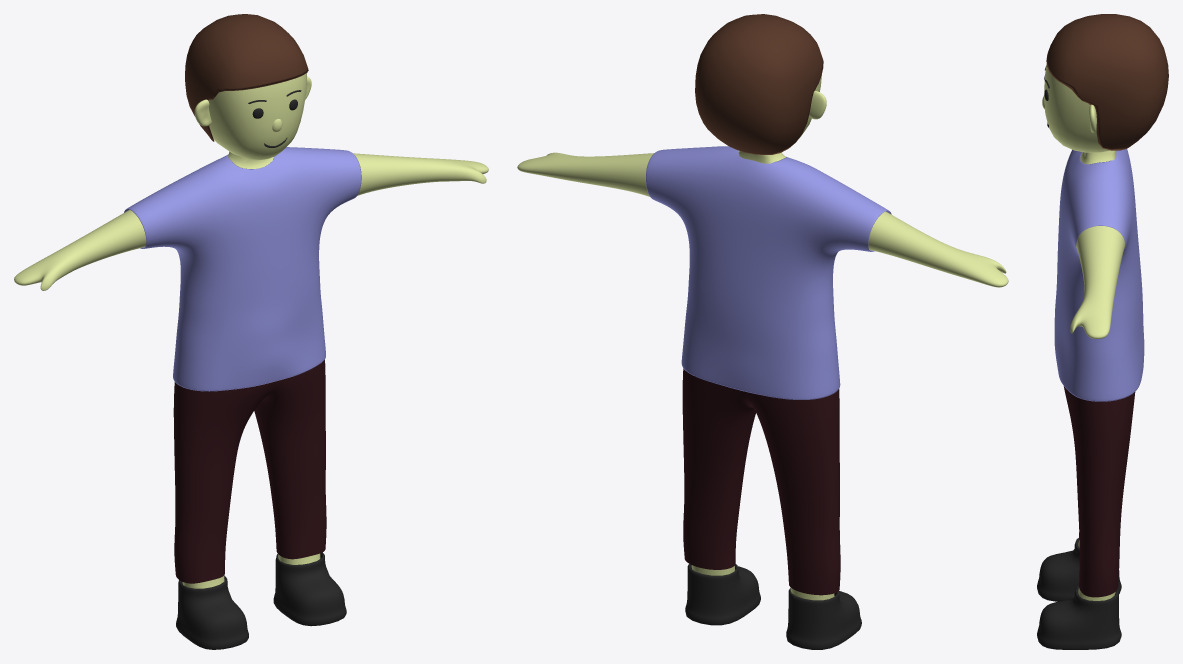
The model's file is personaje.glb.
3 views of the same model, side by side, from view 1: azimuth 30°, elevation 25°; view 2: azimuth 150°, elevation 25°; view 3: azimuth 270°, elevation 25° (orthographic). The views are drawn at different scales.
Parts seen in each view (by area): view 1: baju, celana, badan, rambut, kepala, sepatu1, sepatu; view 2: baju, celana, rambut, badan, sepatu1, sepatu; view 3: baju, rambut, celana, badan, sepatu1, kepala, sepatu.
Part boxes in pixels (x1,y1,x2,y2): baju: (124,147,361,391); celana: (173,360,326,583); badan: (14,151,488,588); rambut: (185,14,308,141); kepala: (208,73,306,160); sepatu1: (273,552,346,626); sepatu: (176,575,248,649); baju: (645,146,891,399); celana: (682,368,840,595); rambut: (695,14,823,154); badan: (517,151,1008,600); sepatu1: (685,564,760,625); sepatu: (786,588,861,649); baju: (1054,149,1144,401); rambut: (1046,14,1168,150); celana: (1063,386,1135,597); badan: (1070,150,1125,600); sepatu1: (1037,586,1121,649); kepala: (1044,64,1110,152); sepatu: (1037,538,1121,601).
Bounding box in the file's own units: 2.55 × 3.04 × 0.6131.
